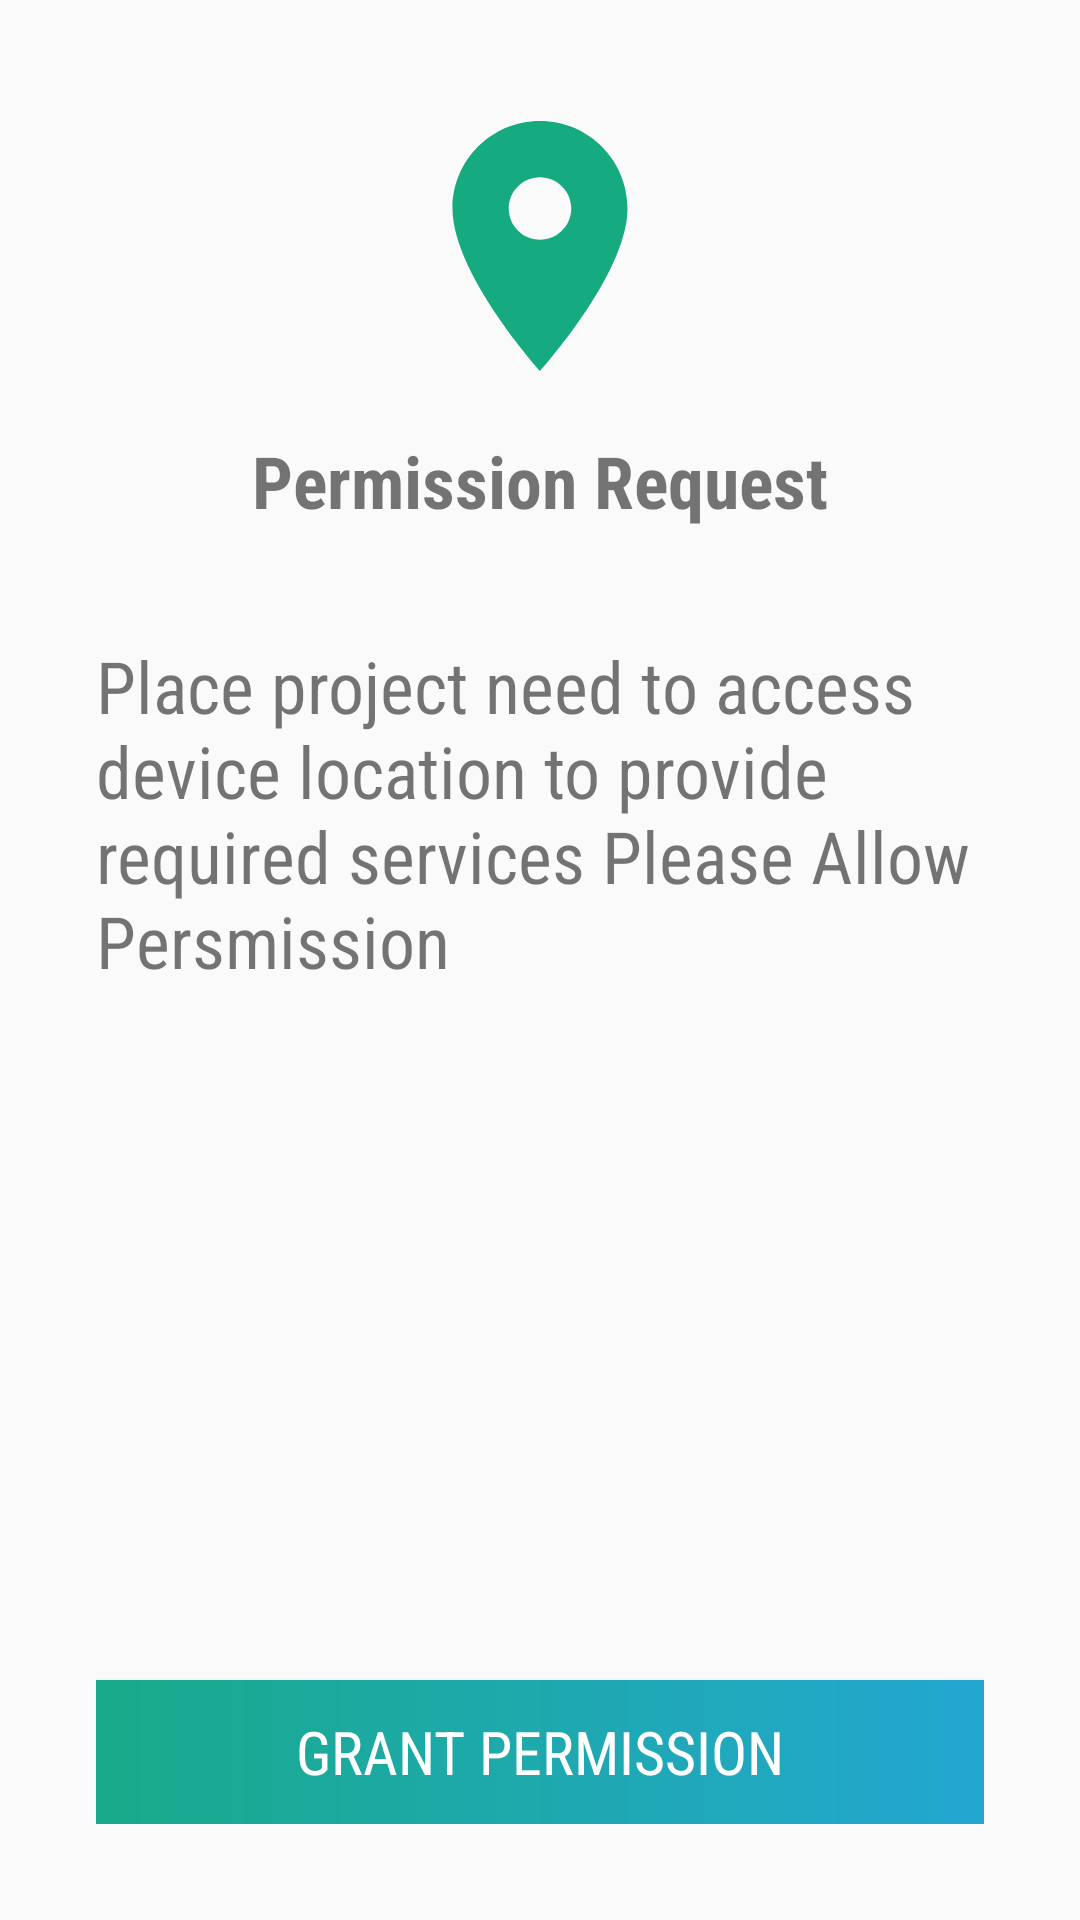

Locate icon controls on the screen. Image size 1080px x 1920px, boxes as (x1, y1, x2, y2).
location on: (452, 121, 628, 371)
